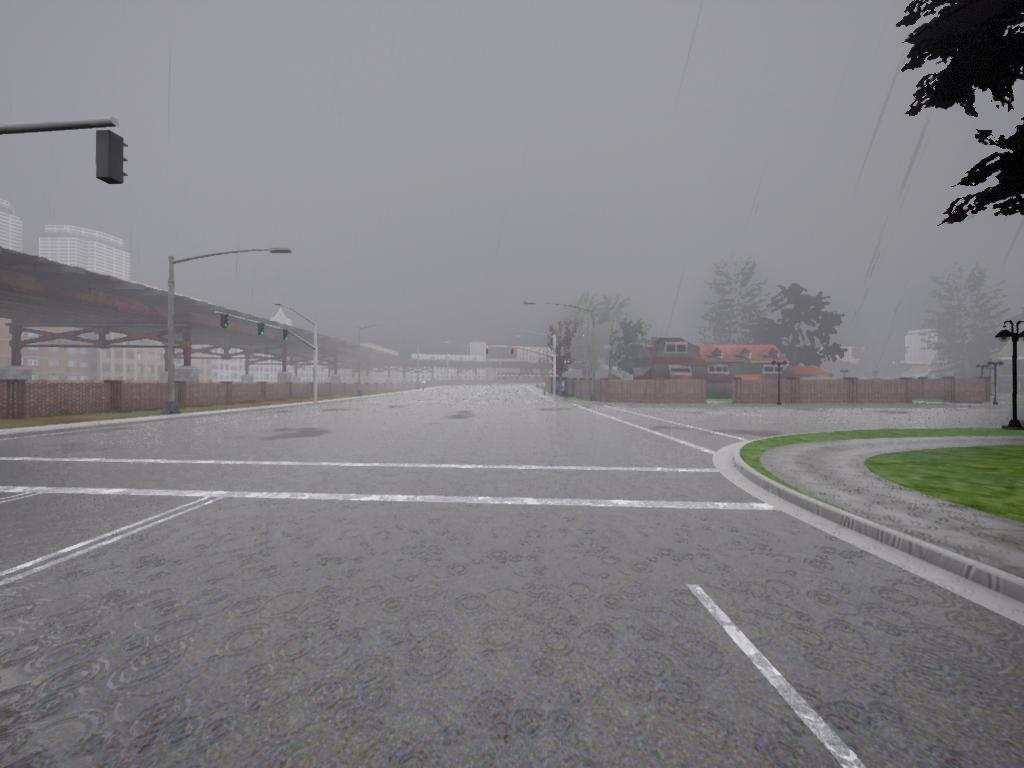traffic_light: (97, 133, 129, 187), (257, 323, 266, 338), (221, 318, 230, 332), (283, 330, 289, 343), (511, 346, 515, 356), (487, 346, 490, 355)
